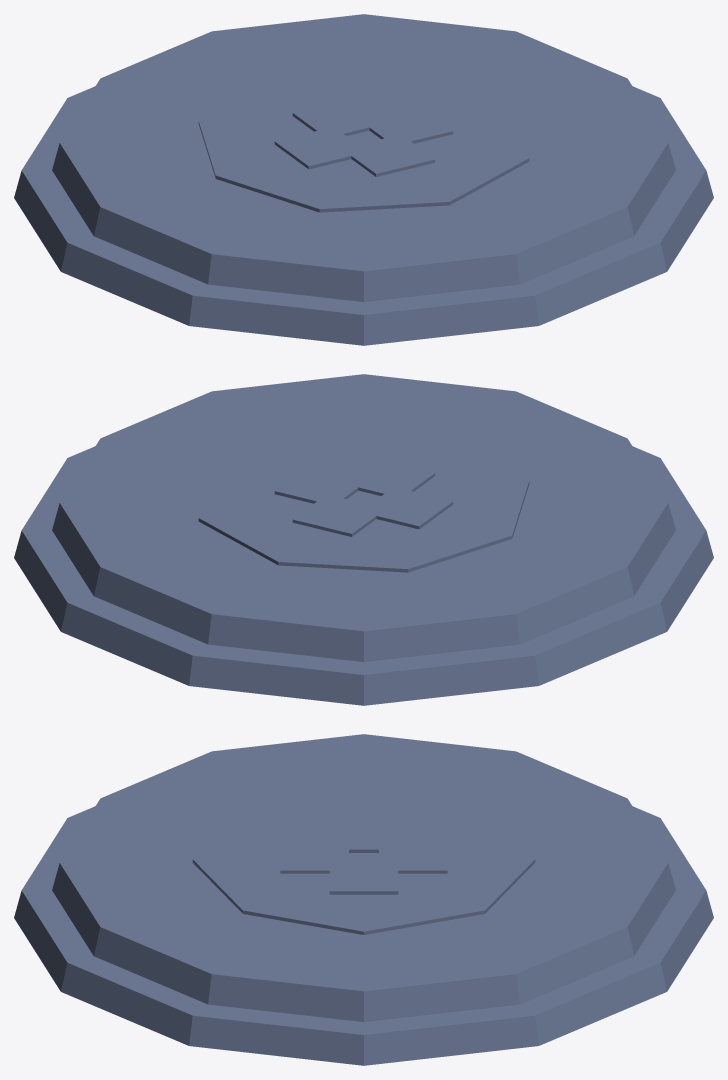
The model's file is StartDais.fbx.
The picture shows the model from 3 angles, top to bottom: view 1: azimuth 30°, elevation 25°; view 2: azimuth 150°, elevation 25°; view 3: azimuth 270°, elevation 25°; orthographic projection.
Visible parts, largest first — view 1: EXPORT_StartDais; view 2: EXPORT_StartDais; view 3: EXPORT_StartDais.
Boxes of the visible parts, <box> form: EXPORT_StartDais: <box>14,14,713,345</box>; EXPORT_StartDais: <box>14,374,713,705</box>; EXPORT_StartDais: <box>14,734,713,1065</box>.
Bounding box in the file's own units: 184 × 28 × 184.
